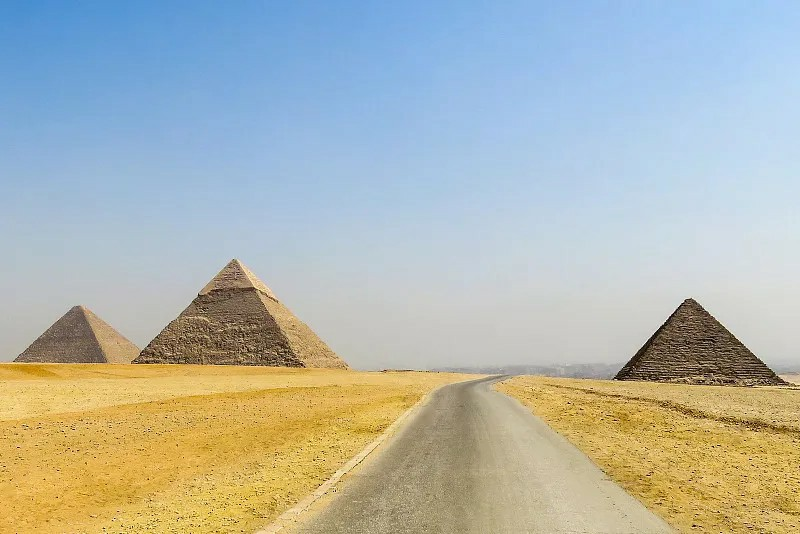Pyramid: (131, 258, 351, 371), (613, 299, 786, 386), (12, 306, 141, 364)
